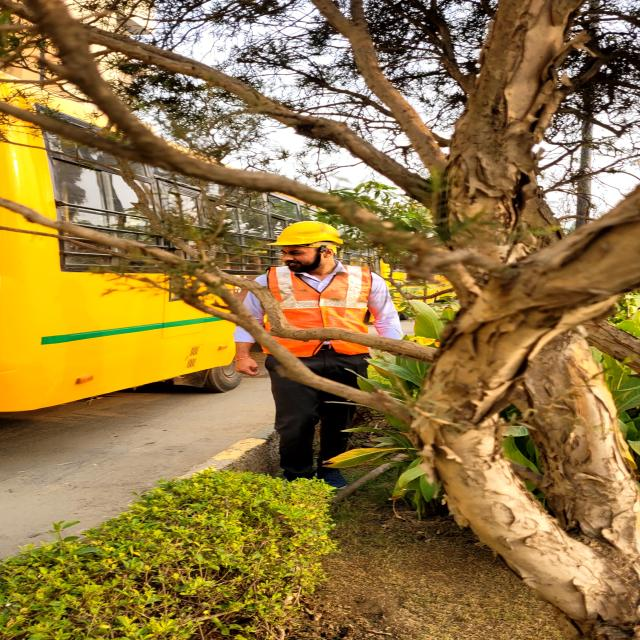safe: (241, 213, 411, 467)
